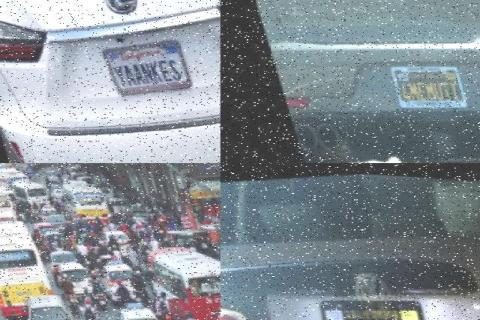LicensePlate: (96, 34, 193, 95), (386, 56, 468, 112), (312, 287, 430, 320), (70, 275, 84, 291), (210, 303, 221, 317), (21, 294, 33, 305), (118, 238, 125, 246), (138, 213, 146, 219), (121, 278, 128, 284), (58, 221, 64, 227), (0, 264, 4, 271), (0, 263, 4, 269), (116, 202, 122, 206)
